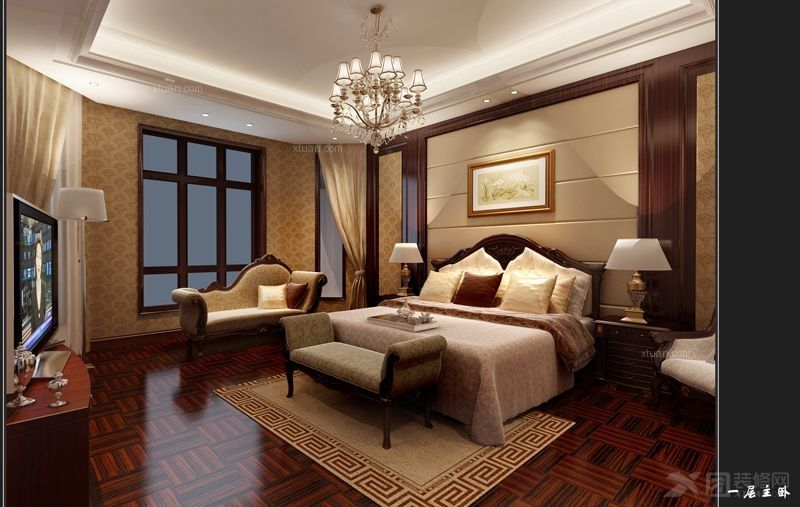床: (288, 294, 595, 433)
枕头: (417, 267, 583, 314), (255, 283, 315, 312)
灯: (320, 7, 428, 156), (51, 184, 110, 353), (602, 234, 668, 322), (385, 240, 421, 295), (195, 110, 211, 121), (238, 122, 253, 133), (504, 86, 519, 96), (477, 96, 492, 106)
